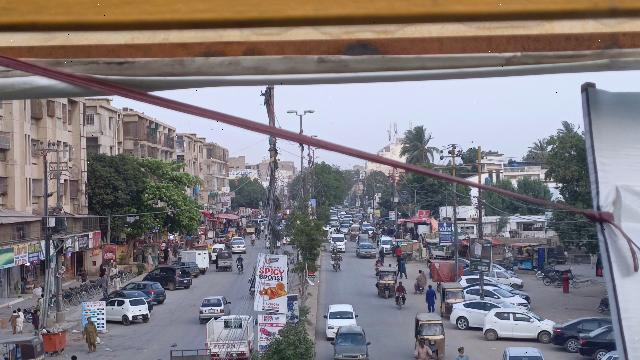Bike: (393, 291, 407, 310), (414, 281, 426, 295), (236, 261, 244, 275)
Car: (482, 304, 556, 345), (550, 314, 609, 354), (449, 298, 503, 332), (329, 324, 372, 360), (138, 265, 193, 291), (322, 302, 360, 339), (576, 324, 615, 360), (105, 296, 150, 327), (125, 279, 169, 305), (197, 294, 231, 322)
Person: (80, 315, 101, 354), (413, 337, 433, 360), (424, 284, 438, 313), (29, 309, 40, 335), (455, 344, 470, 360), (9, 309, 18, 335), (16, 308, 24, 335), (414, 267, 426, 282), (110, 272, 120, 289), (396, 279, 405, 293), (236, 254, 244, 263)
Rickshaw: (413, 312, 447, 358), (439, 283, 464, 320), (374, 266, 398, 300)
Truck: (201, 313, 256, 359), (180, 250, 210, 271)
